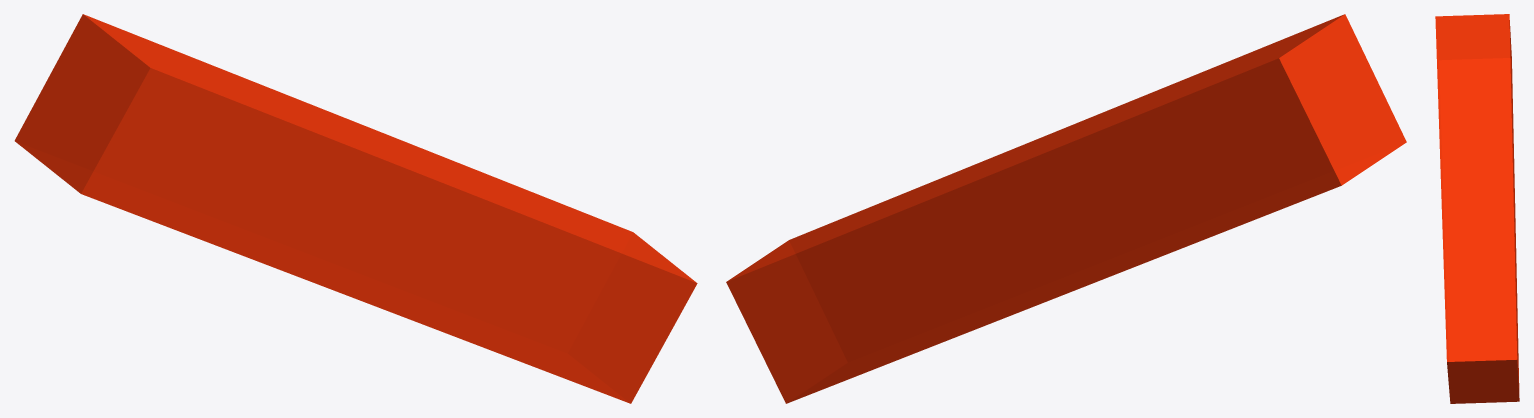
The model's file is Event_420094457_EBrechit_14.fbx.
The picture shows the model from 3 angles, left to right: view 1: azimuth 30°, elevation 25°; view 2: azimuth 150°, elevation 25°; view 3: azimuth 270°, elevation 25°; orthographic projection. The views are drawn at different scales.
Parts seen in each view (by area): view 1: Model; view 2: Model; view 3: Model.
Part boxes in pixels (left/top/right/bottom): Model: left=14, top=14, right=697, bottom=403; Model: left=726, top=14, right=1406, bottom=403; Model: left=1435, top=14, right=1519, bottom=403.
Bounding box in the file's own units: 0.3151 × 0.2274 × 0.0672.
